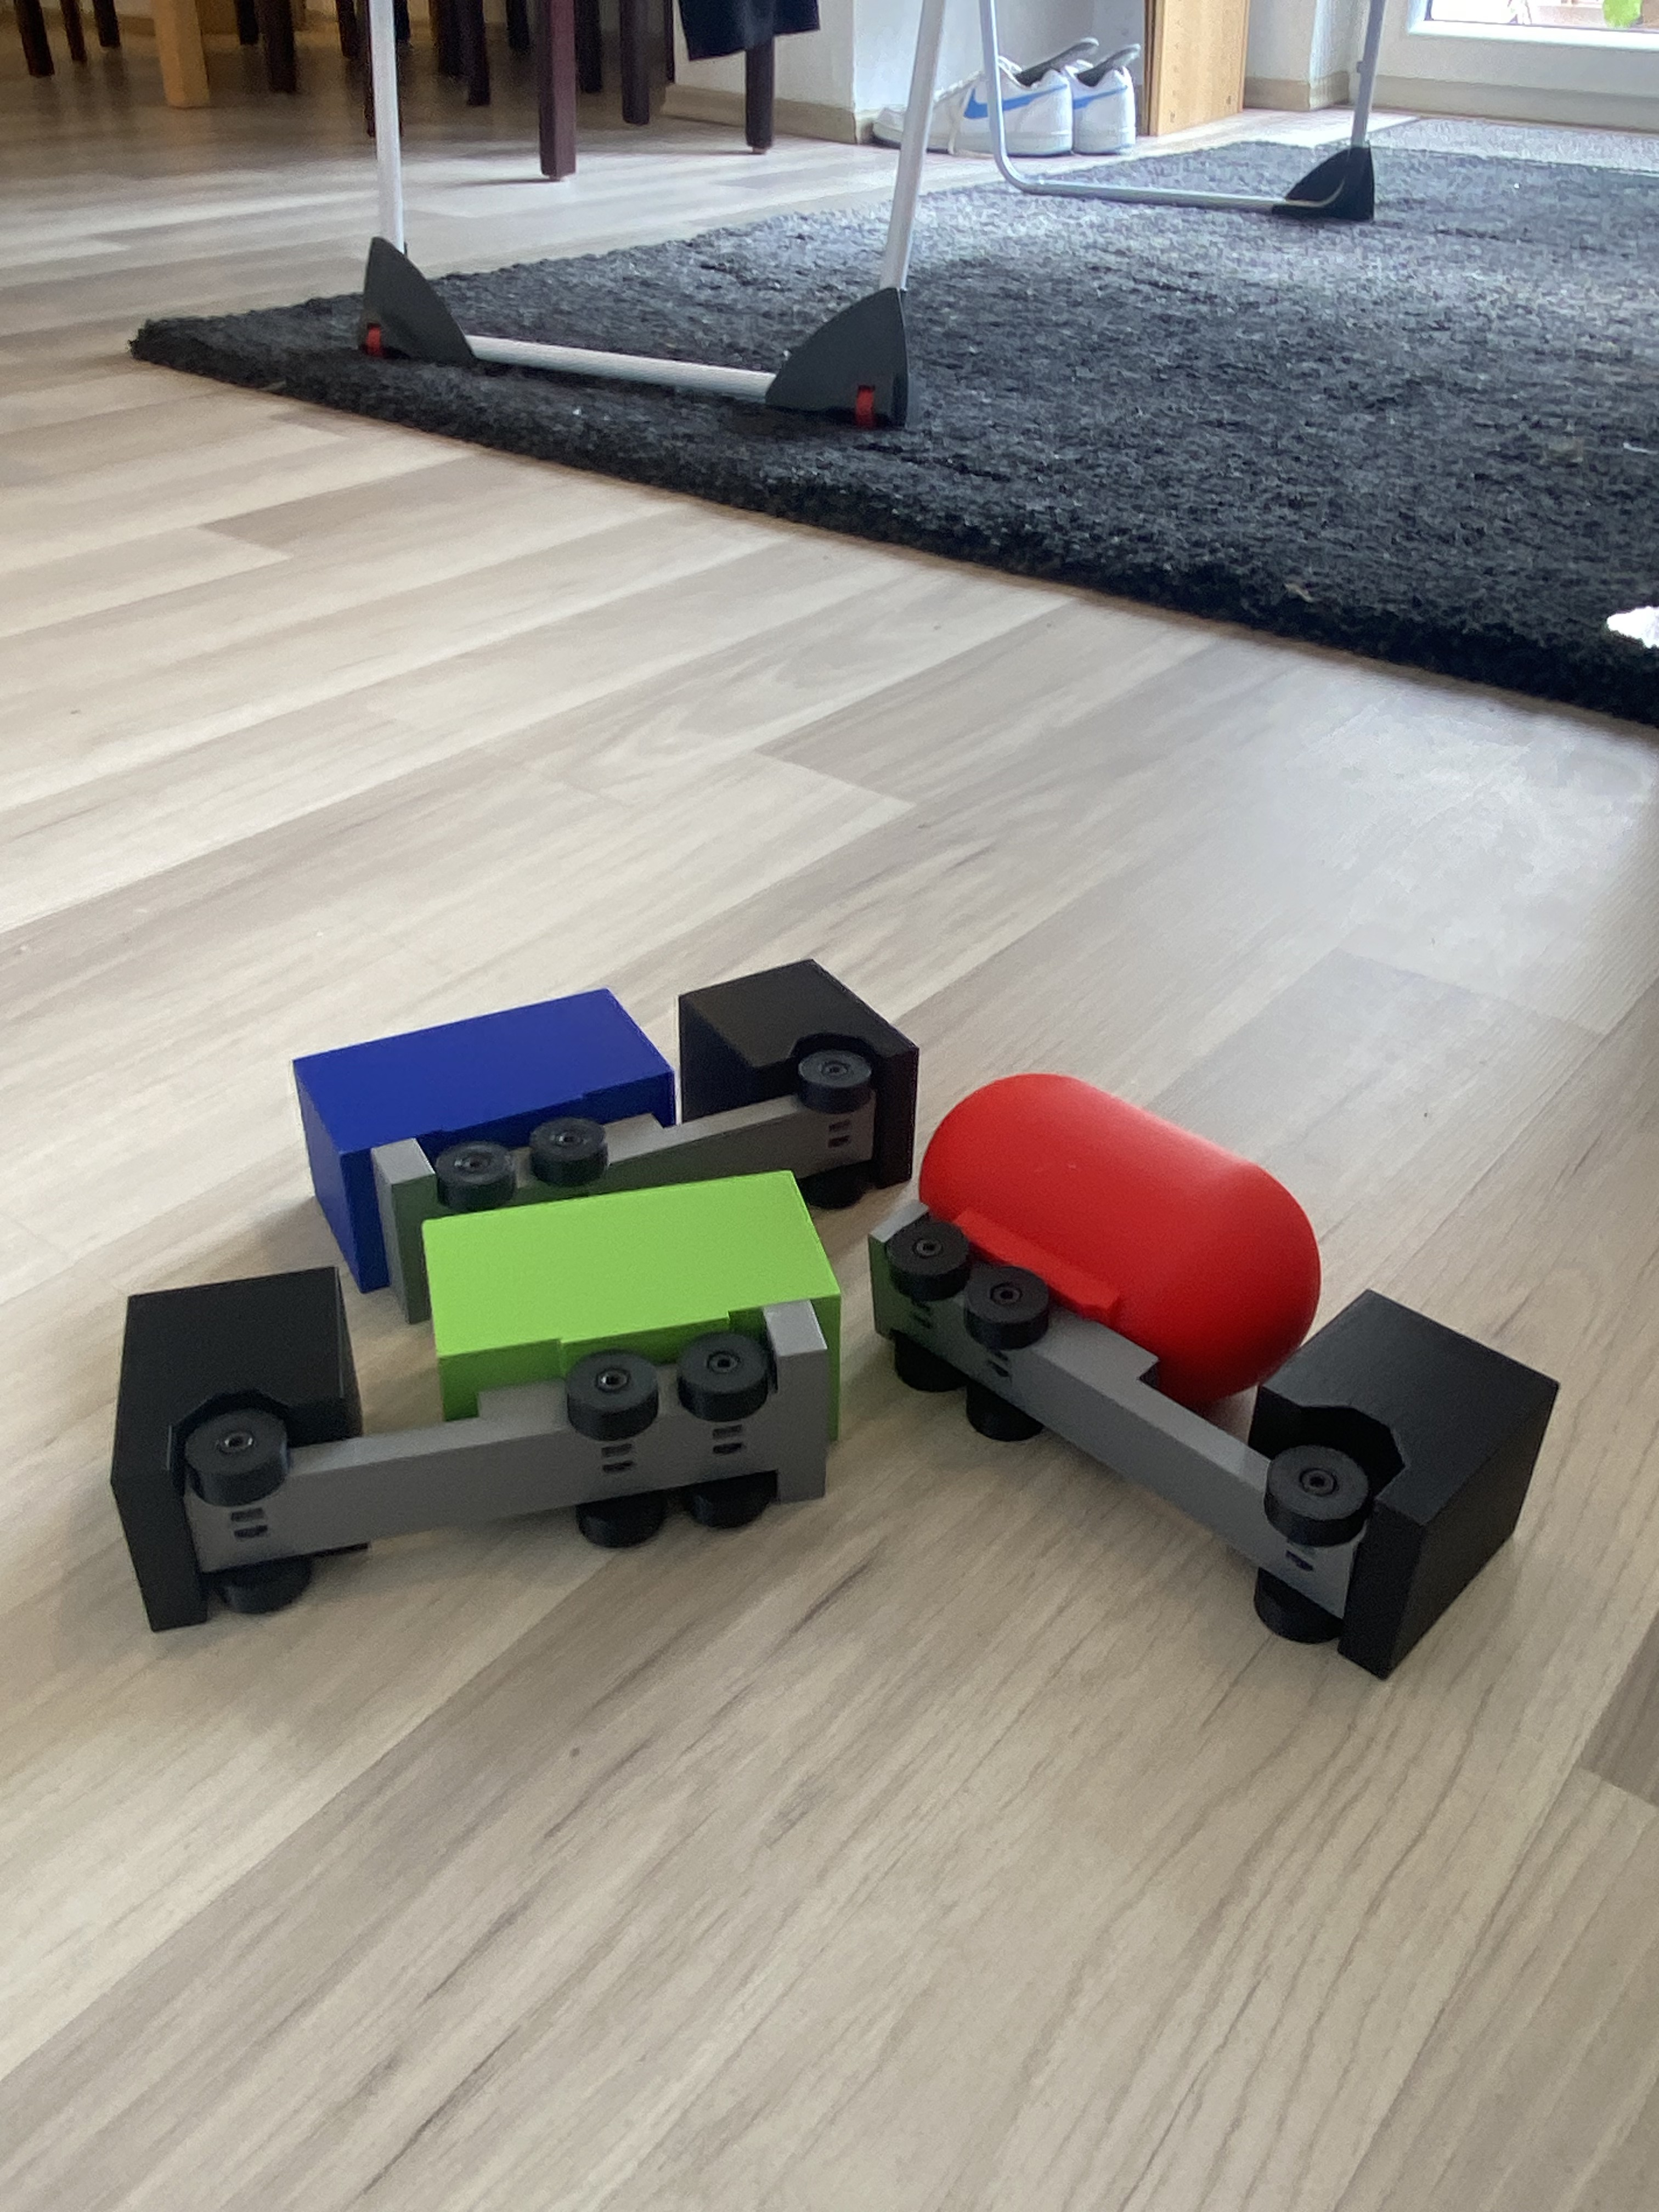blue_truck: (312, 956, 924, 1261)
green_truck: (314, 1035, 650, 1766)
red_truck: (1026, 1012, 1399, 1717)
